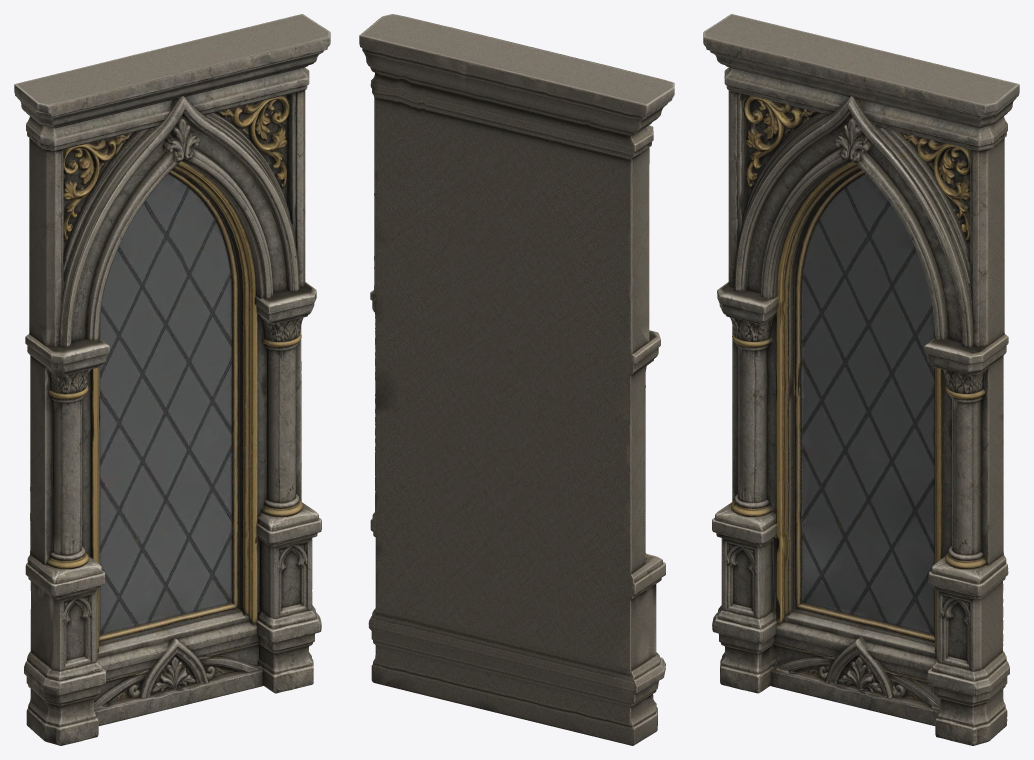
Rendered from Meshy_AI_model.glb.
3 views of the same model, side by side, from view 1: azimuth 30°, elevation 25°; view 2: azimuth 150°, elevation 25°; view 3: azimuth 330°, elevation 25° (orthographic).
Visible parts, largest first — view 1: mesh_node; view 2: mesh_node; view 3: mesh_node.
Part boxes in pixels (left/top/right/bottom): mesh_node: left=14, top=14, right=330, bottom=745; mesh_node: left=359, top=14, right=674, bottom=745; mesh_node: left=703, top=14, right=1019, bottom=745.
Size of the model in its own units: 0.9055 by 1.9 by 0.1691.
1 material, 1 textured.
